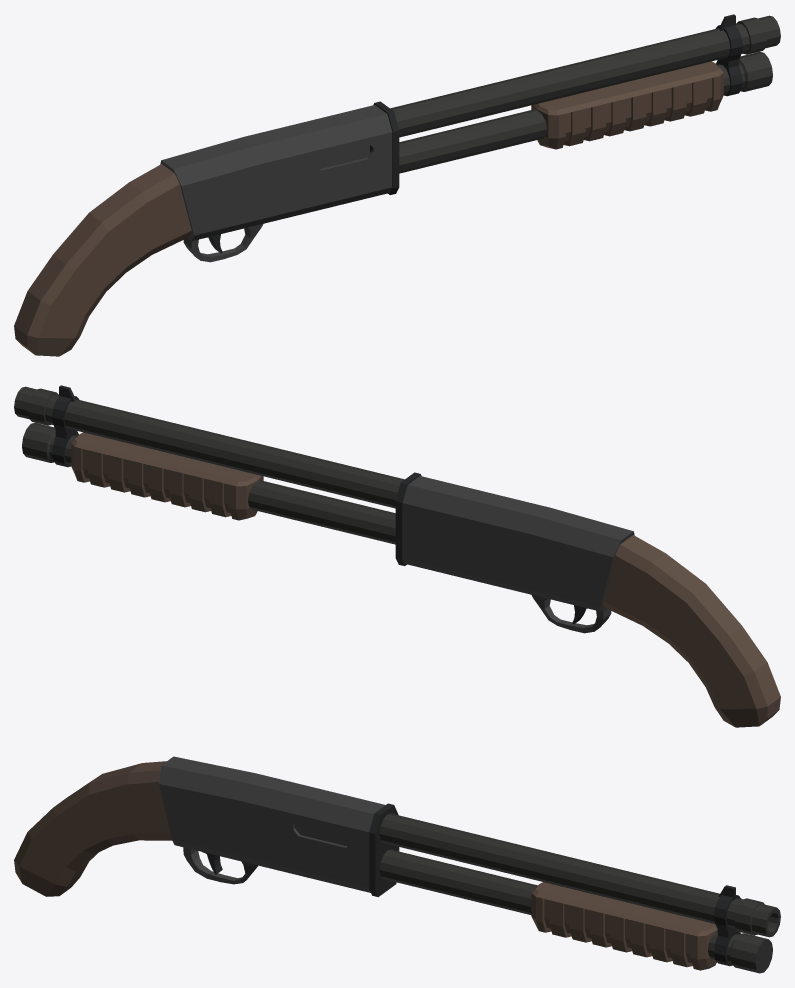
Rendered from Shotgun Short Stock.glb.
3 views of the same model, one above another, from view 1: azimuth 30°, elevation 25°; view 2: azimuth 150°, elevation 25°; view 3: azimuth 330°, elevation 25° (orthographic).
Parts seen in each view (by area): view 1: Shotgun Short Stock; view 2: Shotgun Short Stock; view 3: Shotgun Short Stock.
Boxes of the visible parts, bbox=[...] form: Shotgun Short Stock: bbox=[14, 14, 780, 356]; Shotgun Short Stock: bbox=[14, 385, 780, 727]; Shotgun Short Stock: bbox=[14, 756, 780, 973].
Size of the model in its own units: 4.47 by 0.9669 by 0.2465.
